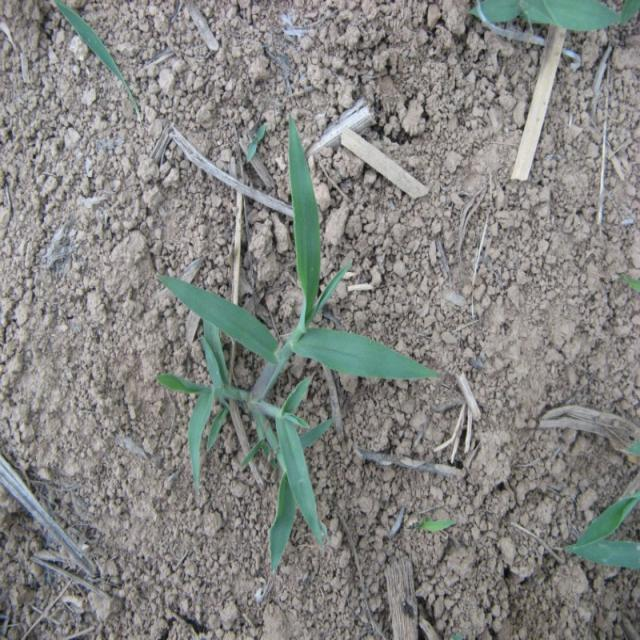bg: (158, 126, 432, 557)
